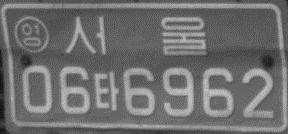0: (20, 64, 53, 114)
2: (241, 66, 274, 119)
6: (200, 66, 234, 119), (122, 66, 156, 116), (58, 65, 90, 115)
9: (161, 65, 195, 117)
서울_D: (64, 14, 208, 56)
영: (13, 14, 50, 53)
타: (93, 71, 120, 112)
